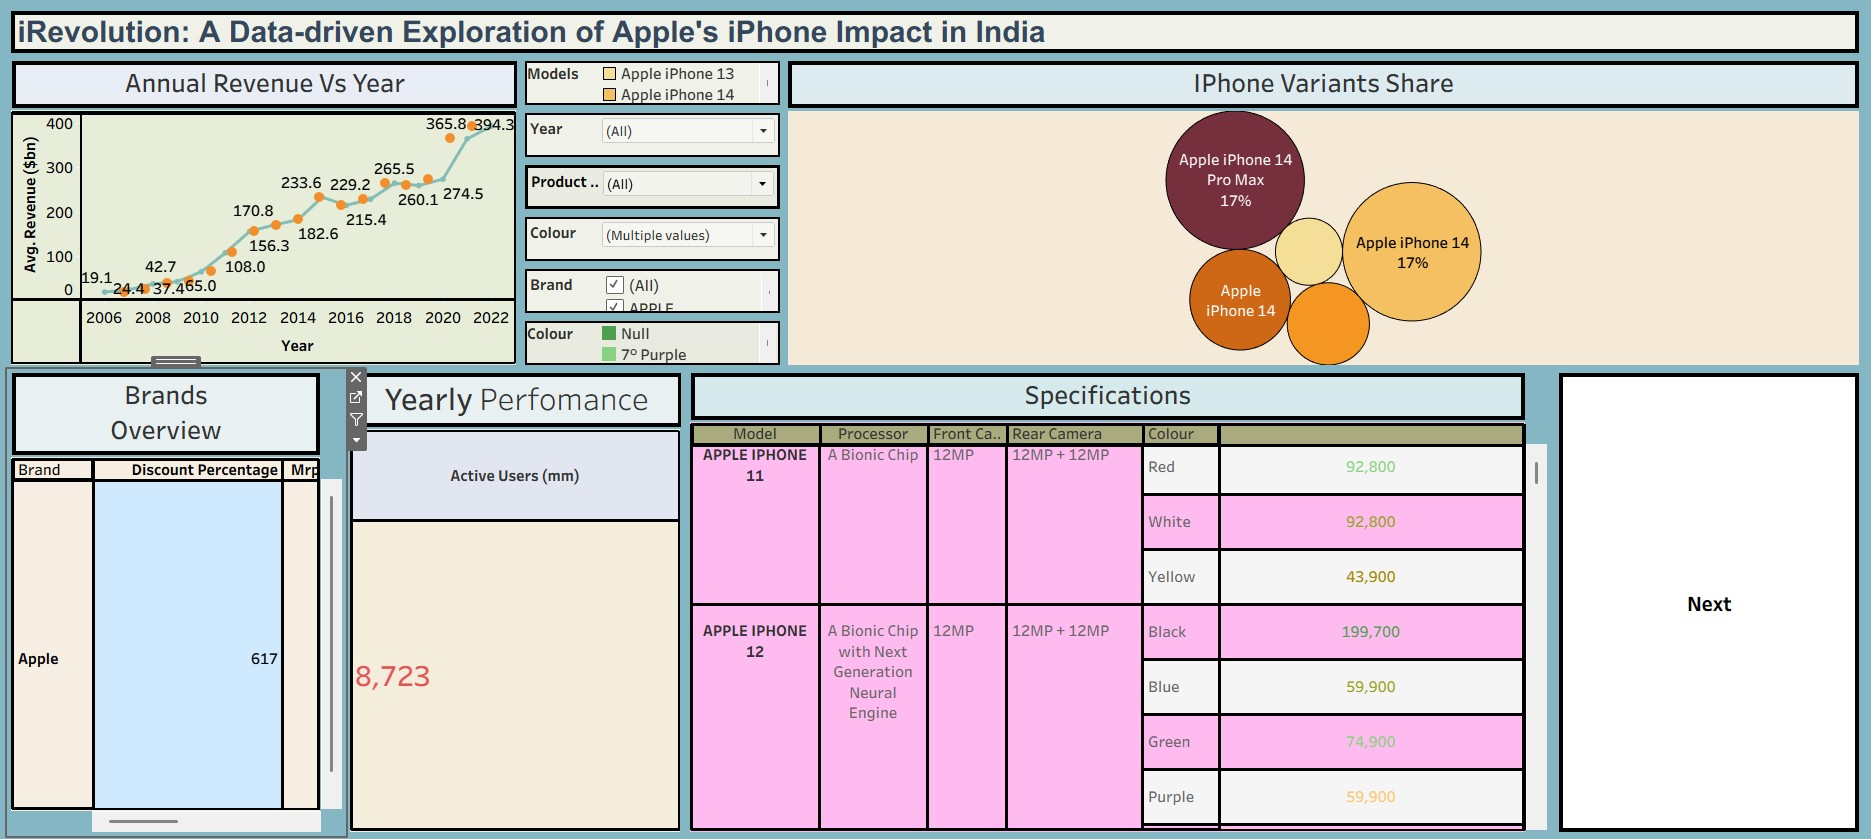

This screenshot's page, from the dashboard's own definition file:
{"tool":"tableau","page":{"name":"Dashboard 1","canvas":[1000,1000],"units":"permille","ordinal":0},"visuals":[{"type":"title","box":[4.4,9.5,991.2,59.2]},{"type":"worksheet","title":"Annual_Revenue Vs Year","mark":"Automatic","rows":["Revenue ($bn)"],"cols":["Year","Year"],"box":[4.4,68.6,270.3,369.2]},{"type":"legend","title":"Circle_Graph_Variants","param":"[federated.0014fqm1hde9j316mhw1i1l8k5xu].[none:Models:nk]","box":[274.7,68.6,144.5,61.5]},{"type":"worksheet","title":"Circle_Graph_Variants","mark":"Circle","box":[419.2,68.6,576.4,369.2]},{"type":"filter","title":"Yearly_Performance","param":"[federated.1sl71vu0907psl15vl33n0v3rjxn].[none:Year:ok]","box":[274.7,130.2,144.5,61.5]},{"type":"filter","title":"BrandsOverView","param":"[federated.0au14ok156ldsf1cw6vik0kr4wju].[none:Product Name:nk]","box":[274.7,191.7,144.5,61.5]},{"type":"filter","title":"Specifications","param":"[federated.0z41rgo0zktw0515zpim40w6zxm2].[none:colour:nk]","box":[274.7,253.2,144.5,61.5]},{"type":"filter","title":"Specifications","param":"[federated.0z41rgo0zktw0515zpim40w6zxm2].[none:brand:nk]","box":[274.7,314.8,144.5,61.5]},{"type":"legend","title":"Specifications","param":"[federated.0z41rgo0zktw0515zpim40w6zxm2].[none:colour:nk]","box":[274.7,376.3,144.5,61.6]},{"type":"worksheet","title":"BrandsOverView","mark":"Automatic","rows":["Brand"],"box":[4.4,437.9,181.3,552.7]},{"type":"worksheet","title":"Yearly_Performance","mark":"Automatic","box":[185.7,437.9,181.3,552.7]},{"type":"worksheet","title":"Specifications","mark":"Automatic","rows":["model","processor","front_camera","rear_camera","colour"],"box":[366.9,437.9,464.4,552.7]},{"type":"dashboard-object","box":[831.3,437.9,164.3,552.7]}]}

Visuals, with their boxes on the dashboard's canvas, which has no fixed pixel size, in thousandths of its width and height (x1, y1, x2, y2). These are canvas units, not pixel positions in the 1871x839 screenshot, which may show the page scaled, cropped or inside an application window:
title: pyautogui.locateOnScreen(4, 10, 996, 69)
"Annual_Revenue Vs Year" worksheet: pyautogui.locateOnScreen(4, 69, 275, 438)
"Circle_Graph_Variants" legend: pyautogui.locateOnScreen(275, 69, 419, 130)
"Circle_Graph_Variants" worksheet (Circle marks): pyautogui.locateOnScreen(419, 69, 996, 438)
"Yearly_Performance" filter: pyautogui.locateOnScreen(275, 130, 419, 192)
"BrandsOverView" filter: pyautogui.locateOnScreen(275, 192, 419, 253)
"Specifications" filter: pyautogui.locateOnScreen(275, 253, 419, 315)
"Specifications" filter: pyautogui.locateOnScreen(275, 315, 419, 376)
"Specifications" legend: pyautogui.locateOnScreen(275, 376, 419, 438)
"BrandsOverView" worksheet: pyautogui.locateOnScreen(4, 438, 186, 991)
"Yearly_Performance" worksheet: pyautogui.locateOnScreen(186, 438, 367, 991)
"Specifications" worksheet: pyautogui.locateOnScreen(367, 438, 831, 991)
dashboard-object: pyautogui.locateOnScreen(831, 438, 996, 991)
